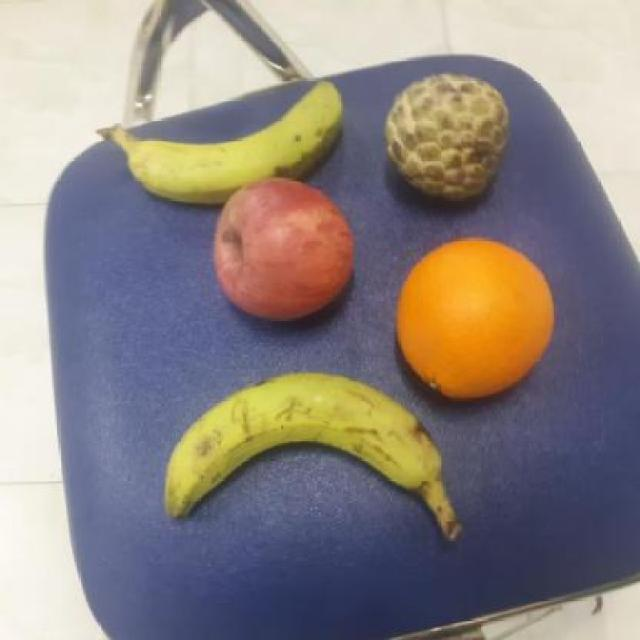apple: (209, 174, 360, 321)
banana: (160, 368, 446, 528), (122, 71, 353, 204)
oren: (391, 232, 560, 402)
sugar apple: (382, 70, 516, 205)
